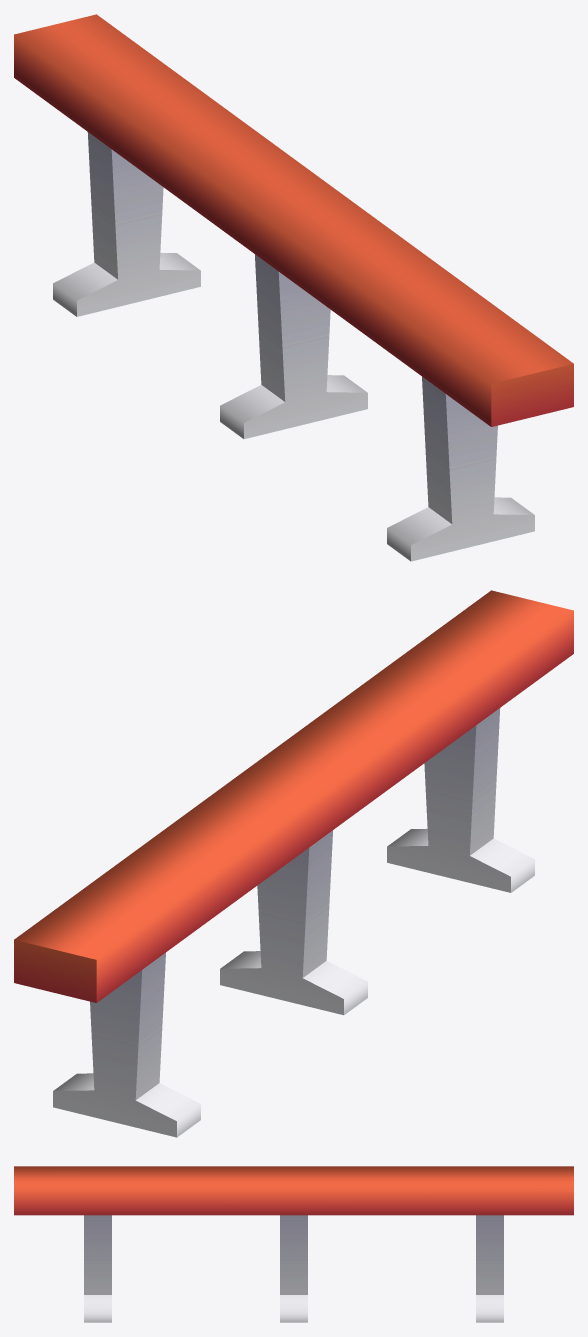
Rendered from rail-low.glb.
The picture shows the model from 3 angles, top to bottom: view 1: azimuth 30°, elevation 25°; view 2: azimuth 150°, elevation 25°; view 3: azimuth 270°, elevation 25°; orthographic projection. The views are drawn at different scales.
Visible parts, largest first — view 1: rail-low; view 2: rail-low; view 3: rail-low.
Boxes of the visible parts, x1,y1,x2,y2 form: rail-low: (14,14,573,561); rail-low: (14,590,573,1137); rail-low: (14,1166,573,1322).
Bounding box in the file's own units: 0.15 × 0.25 × 1.
Materials: 1 (1 with a texture image).
